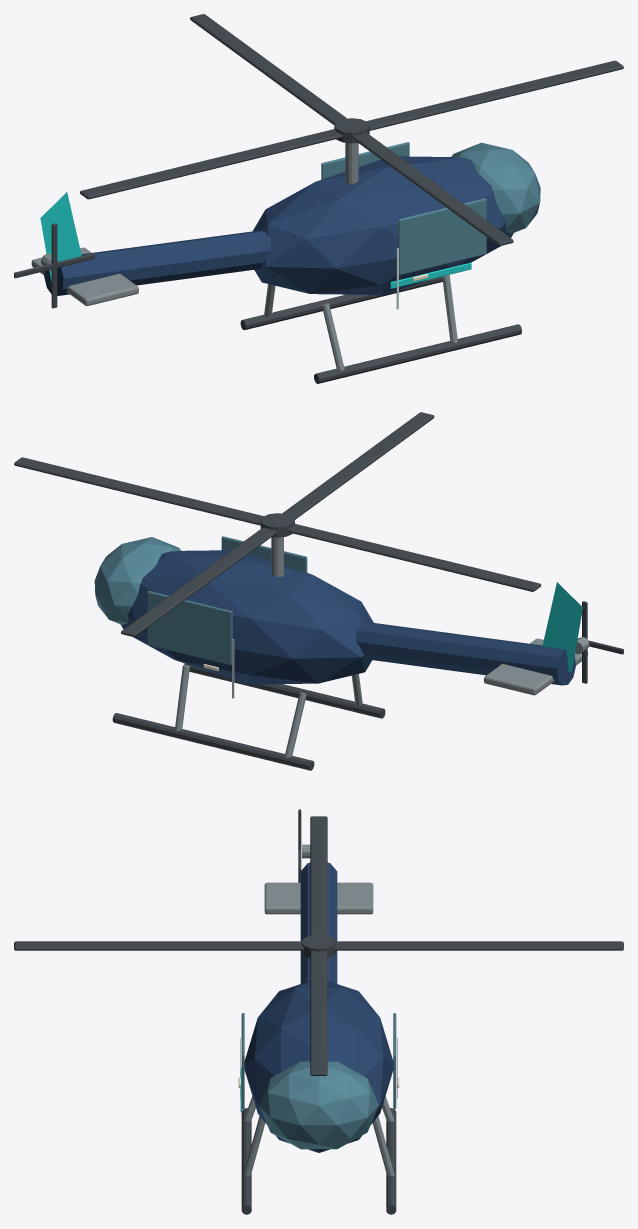
The model's file is Helicopter.fbx.
3 views of the same model, one above another, from view 1: azimuth 30°, elevation 25°; view 2: azimuth 150°, elevation 25°; view 3: azimuth 270°, elevation 25° (orthographic). The views are drawn at different scales.
Visible parts, largest first — view 1: Helicopter; view 2: Helicopter; view 3: Helicopter.
Part boxes in pixels (box(x1,y1,x2,y2)): Helicopter: box(14, 14, 623, 383); Helicopter: box(14, 412, 623, 770); Helicopter: box(14, 809, 623, 1214).
Bounding box in the file's own units: 804 × 273 × 701.
